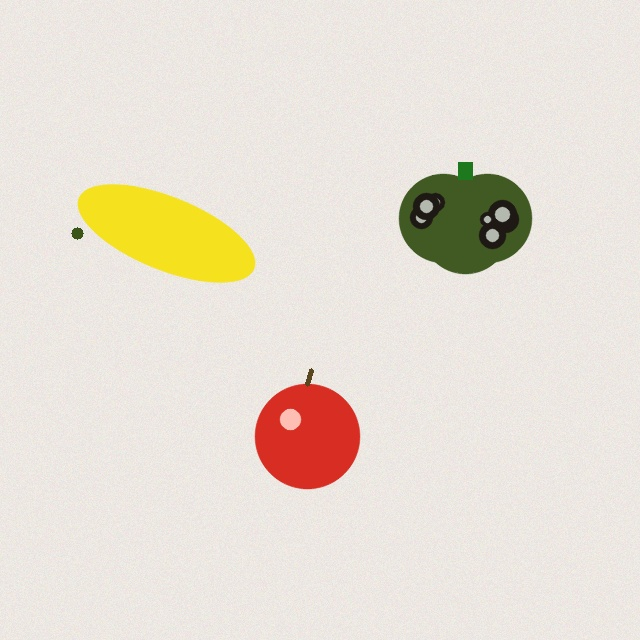Fresh apple: (255, 370, 359, 488)
Fresh banana: (68, 188, 264, 278)
Rotten bell pepper: (399, 162, 531, 273)
